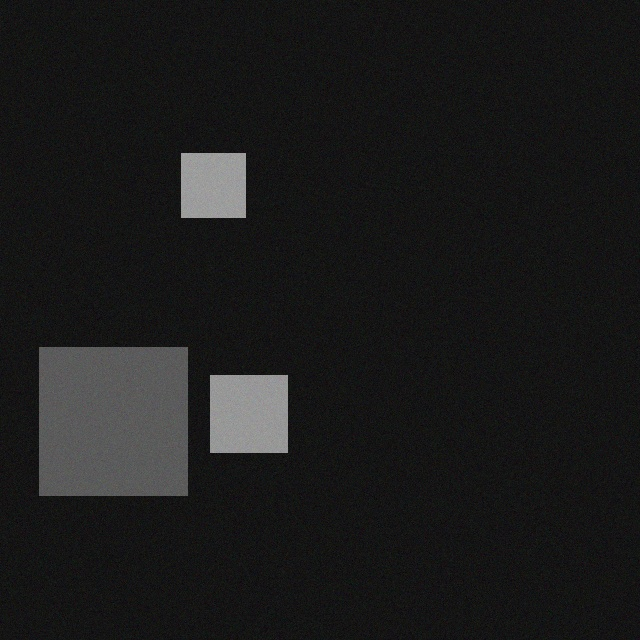square: (50, 339, 198, 487), (221, 367, 298, 444), (192, 145, 256, 209)
